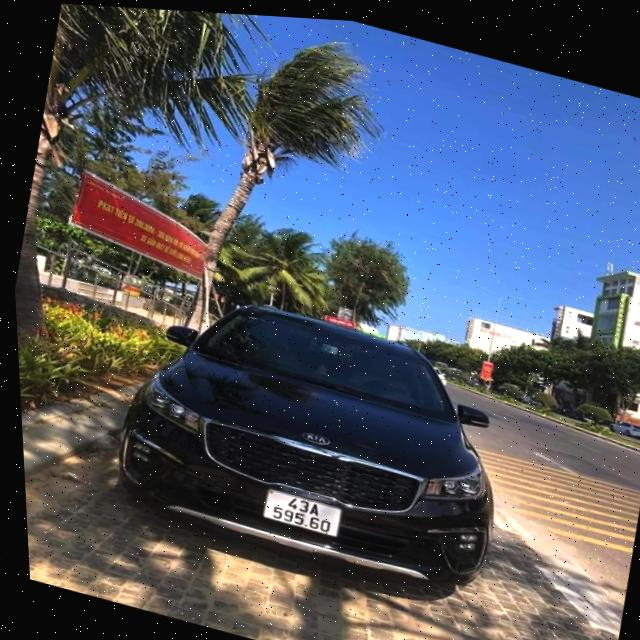car: (90, 263, 532, 618)
plate: (250, 475, 352, 549)
